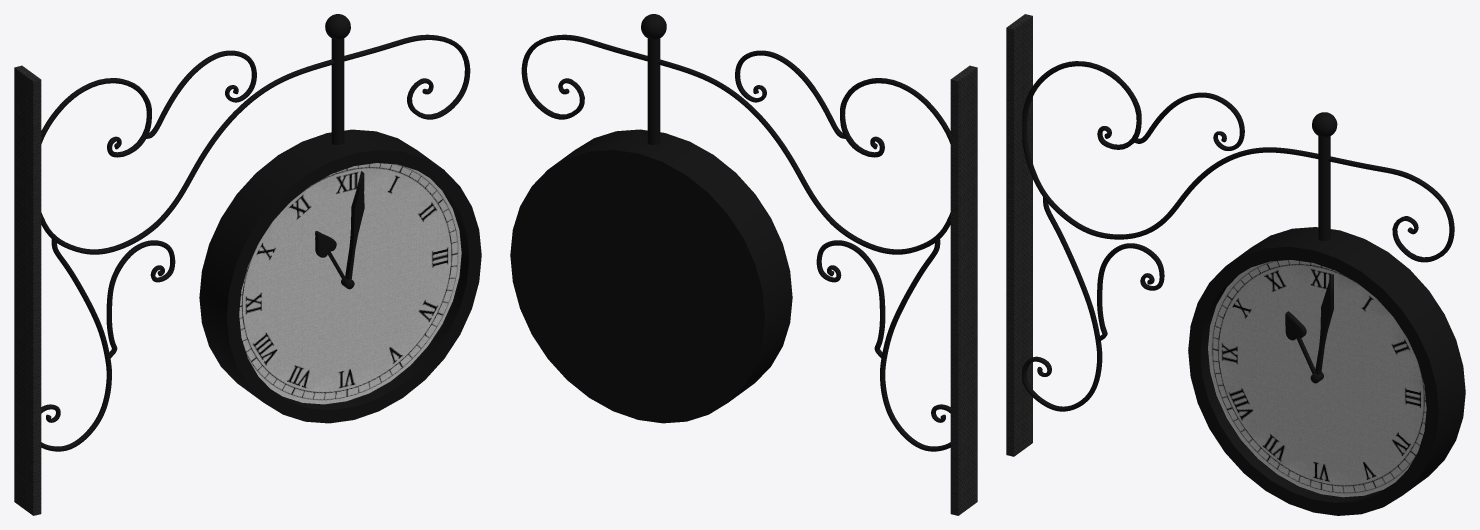
Rendered from clock.fbx.
3 views of the same model, side by side, from view 1: azimuth 30°, elevation 25°; view 2: azimuth 150°, elevation 25°; view 3: azimuth 330°, elevation 25° (orthographic).
Parts seen in each view (by area): view 1: pCube4_lambert1_0; view 2: pCube4_lambert1_0; view 3: pCube4_lambert1_0.
Part boxes in pixels (x1,y1,x2,y2): pCube4_lambert1_0: (14, 14, 481, 515); pCube4_lambert1_0: (510, 14, 977, 515); pCube4_lambert1_0: (1006, 14, 1465, 515).
Size of the model in its own units: 149 by 139 by 15.91.
